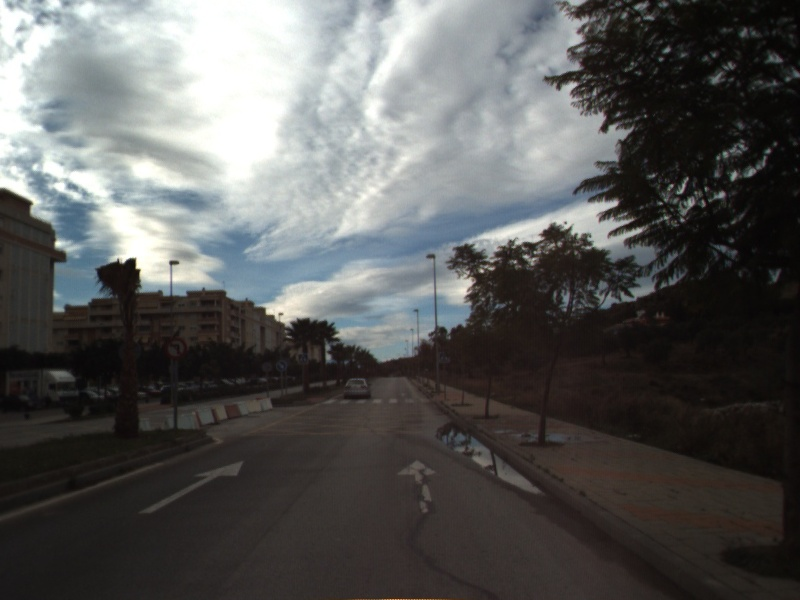STRAIGHT: (137, 459, 246, 515), (395, 457, 443, 516)
